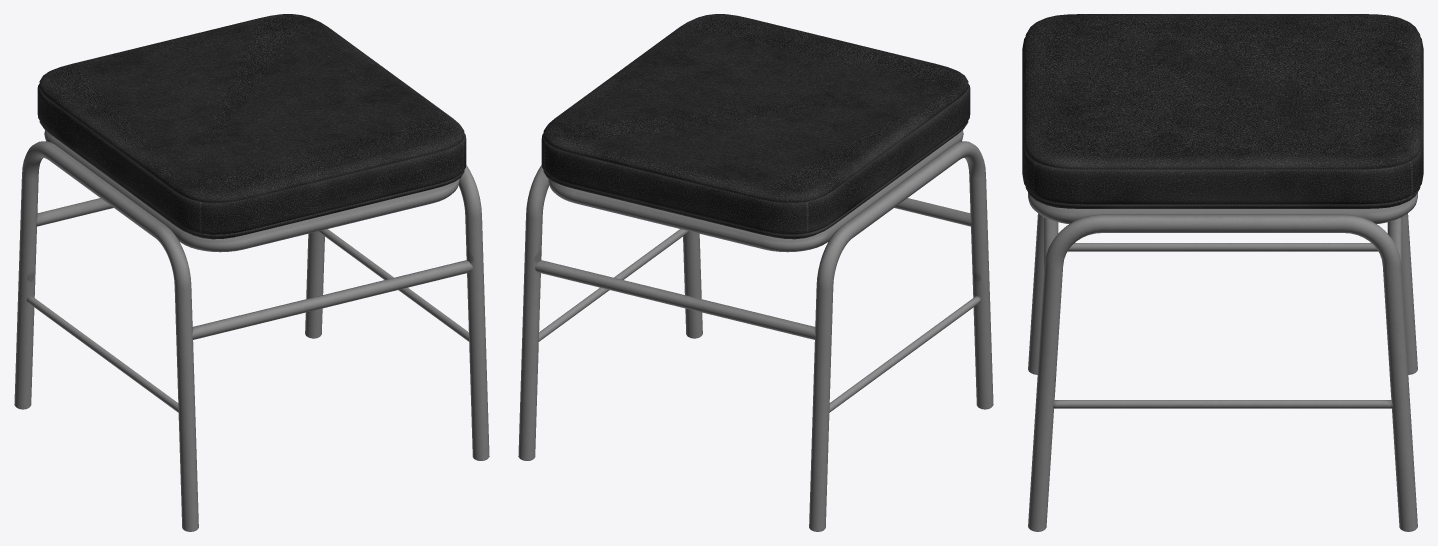
The model's file is ArcadeStool_43.FBX.
The picture shows the model from 3 angles, left to right: view 1: azimuth 30°, elevation 25°; view 2: azimuth 150°, elevation 25°; view 3: azimuth 270°, elevation 25°; orthographic projection. The views are drawn at different scales.
Visible parts, largest first — view 1: ArcadeStool_43; view 2: ArcadeStool_43; view 3: ArcadeStool_43.
Part boxes in pixels (x1,y1,x2,y2): ArcadeStool_43: [14, 14, 489, 531]; ArcadeStool_43: [518, 14, 993, 531]; ArcadeStool_43: [1022, 14, 1423, 531].
Size of the model in its own units: 42 by 43.27 by 43.2.
